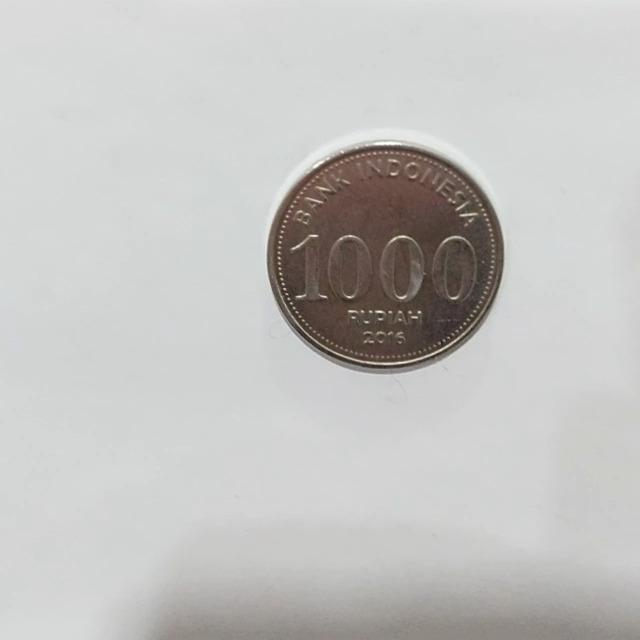Rp100: (264, 133, 505, 374)
